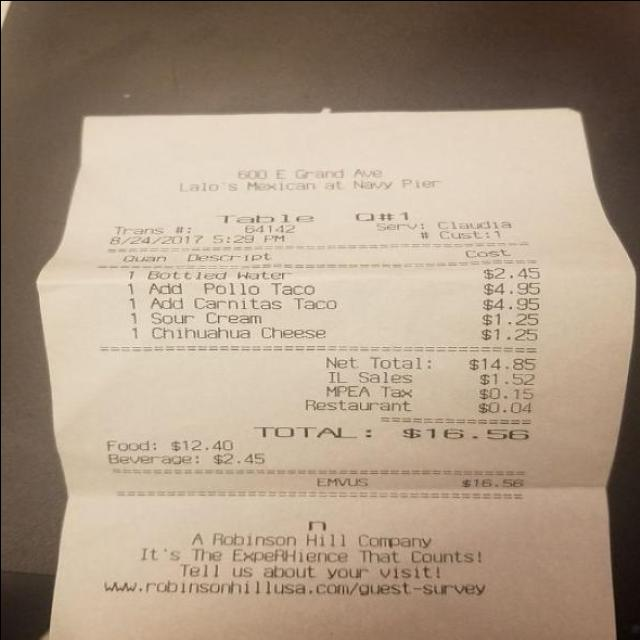kertas: (38, 108, 633, 640)
